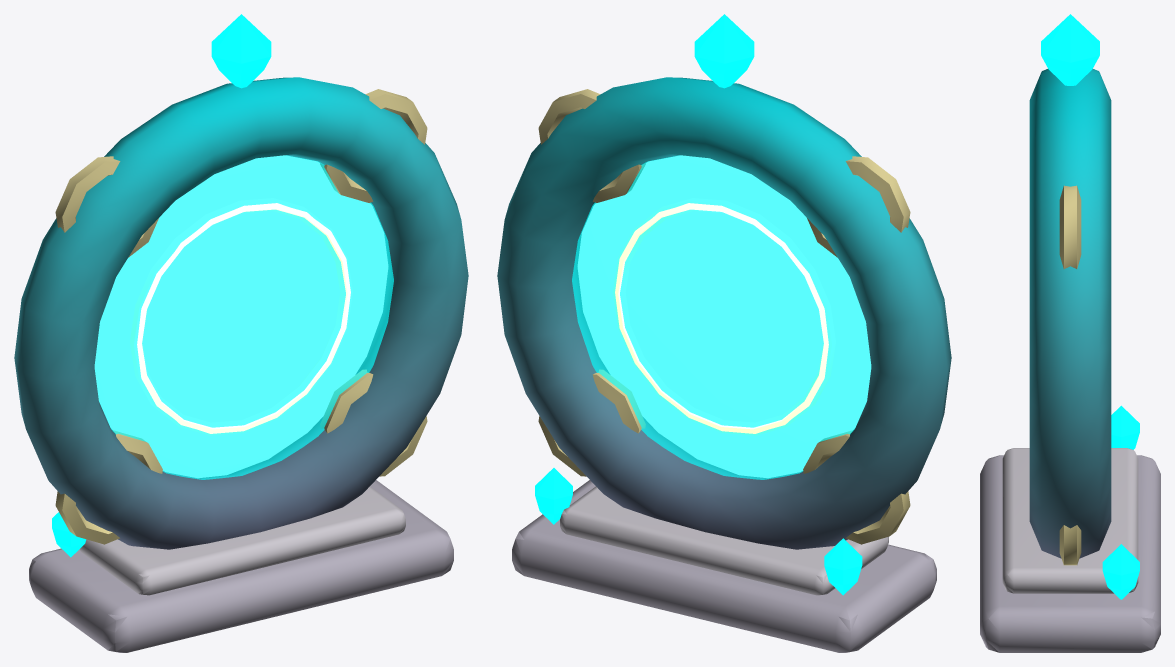
Rendered from portalStart.glb.
3 renders of one model, left to right at view 1: azimuth 30°, elevation 25°; view 2: azimuth 150°, elevation 25°; view 3: azimuth 270°, elevation 25°, orthographic.
Parts seen in each view (by area): view 1: Body, Glow_00E5FF_T35, Glow_FFE066, Glow_00E5FF; view 2: Body, Glow_00E5FF_T35, Glow_FFE066, Glow_00E5FF; view 3: Body, Glow_00E5FF.
Part boxes in pixels (x1,y1,x2,y2): Body: [14, 77, 468, 652]; Glow_00E5FF_T35: [94, 155, 393, 479]; Glow_FFE066: [130, 198, 352, 435]; Glow_00E5FF: [52, 14, 271, 557]; Body: [497, 77, 951, 652]; Glow_00E5FF_T35: [572, 155, 871, 479]; Glow_FFE066: [613, 198, 835, 435]; Glow_00E5FF: [535, 14, 862, 595]; Body: [980, 69, 1160, 652]; Glow_00E5FF: [1041, 14, 1139, 599].
Bounding box in the file's own units: 7.51 × 9.24 × 2.69.
